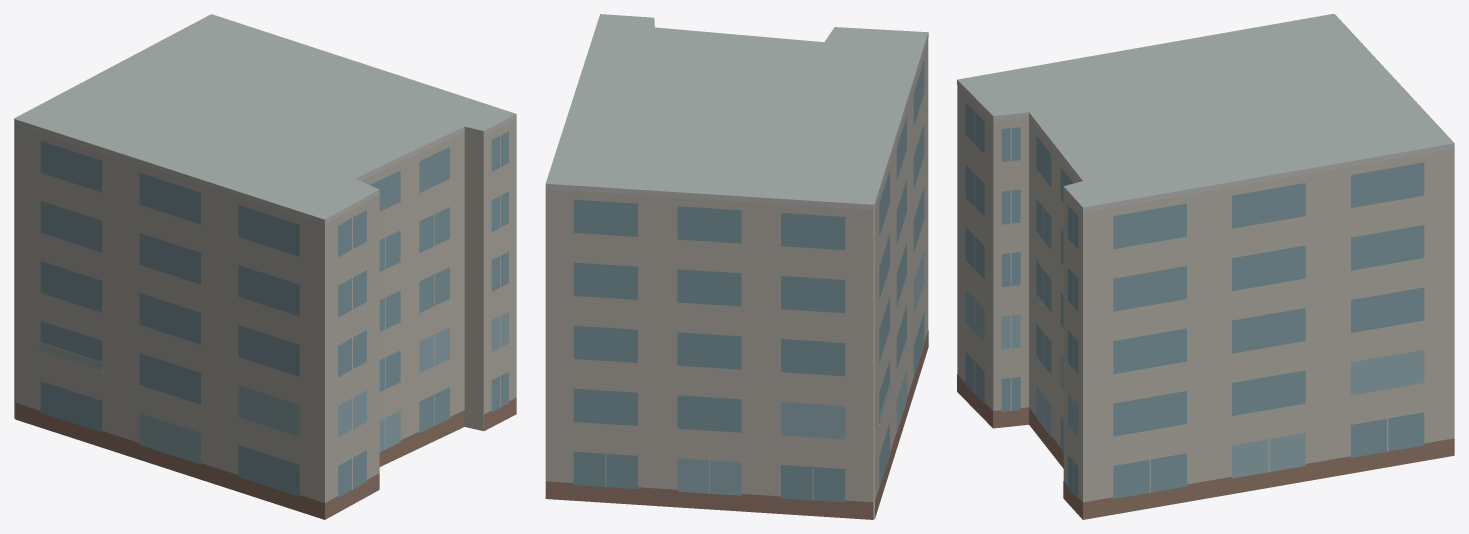
Rendered from survey-upis-32862791.glb.
3 views of the same model, side by side, from view 1: azimuth 30°, elevation 25°; view 2: azimuth 150°, elevation 25°; view 3: azimuth 270°, elevation 25° (orthographic). The views are drawn at different scales.
Visible parts, largest first — view 1: survey-upis-32862791.tmp; view 2: survey-upis-32862791.tmp; view 3: survey-upis-32862791.tmp.
Part boxes in pixels (<box>): survey-upis-32862791.tmp: <box>14,14,516,519</box>; survey-upis-32862791.tmp: <box>545,14,928,519</box>; survey-upis-32862791.tmp: <box>957,14,1454,519</box>.
Size of the model in its own units: 19.02 by 14.3 by 20.66.
